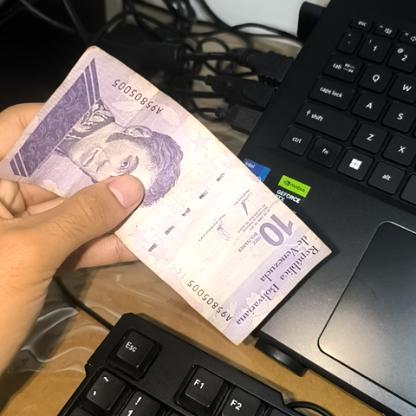ten-front-vef: (0, 44, 333, 344)
